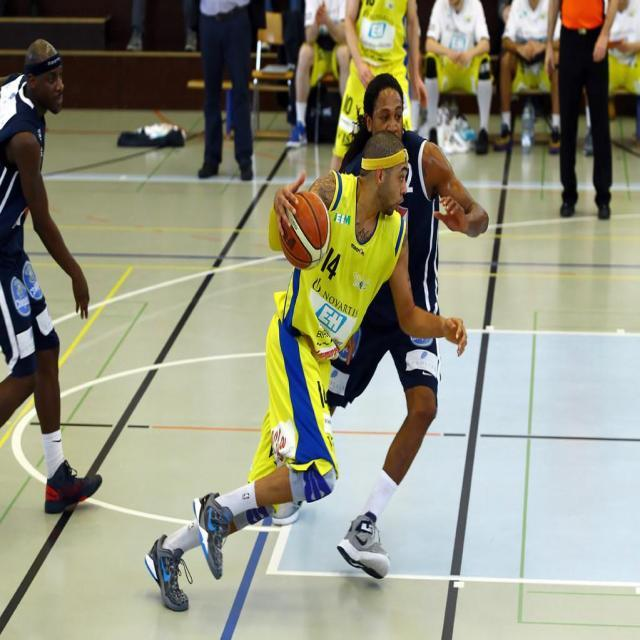rim: (282, 187, 331, 266)
